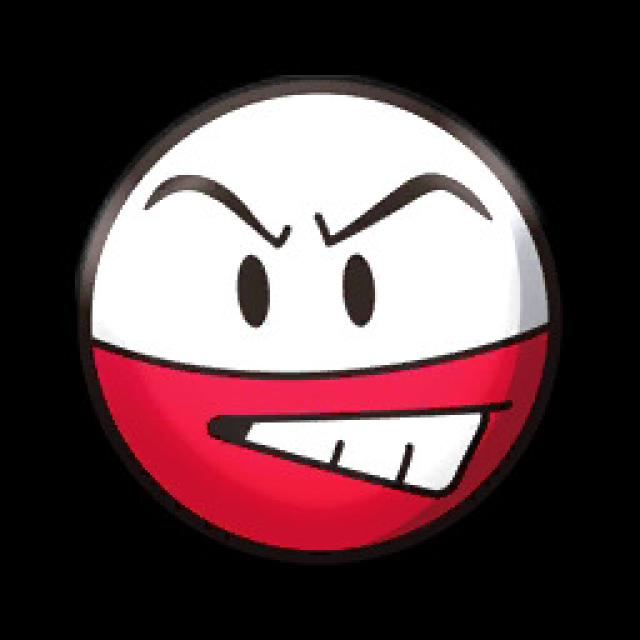Electrode: (72, 70, 566, 562)
